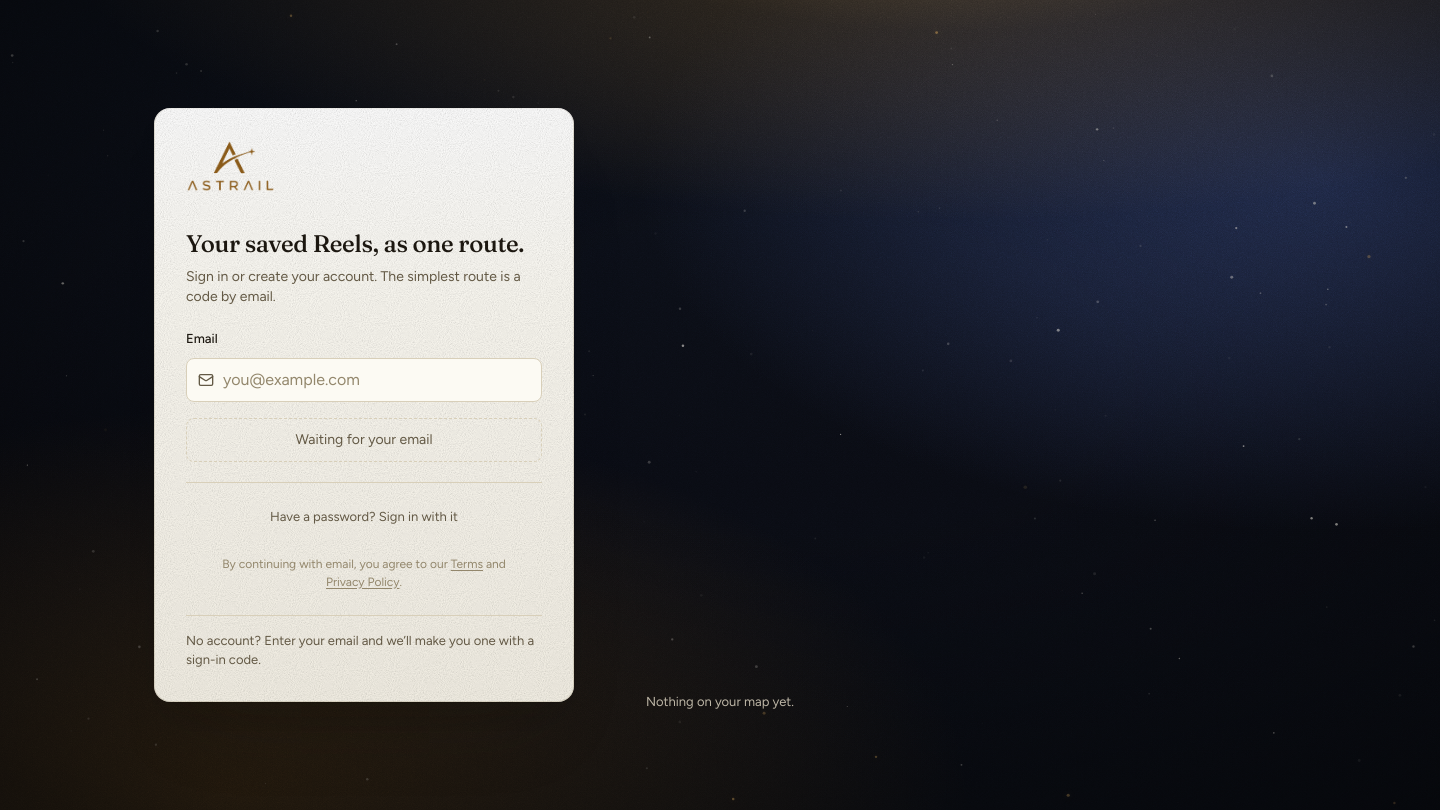
Scenario: password sign-in › uses non-enumerating friendly copy for wrong credentials
Click the button "Have a password? Sign in with it" at (364, 517), box [186,499,542,535]
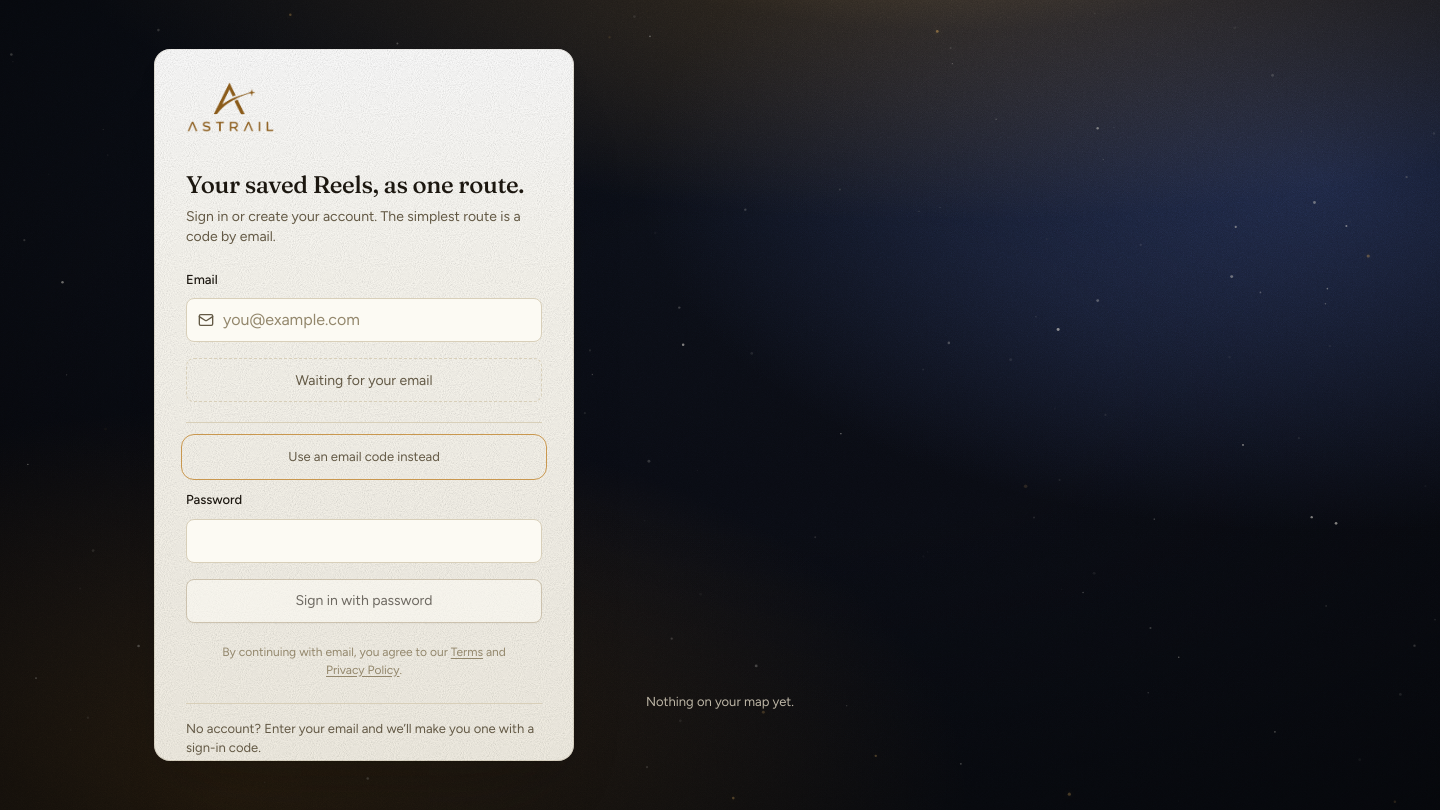
Type "judge@example.com" into the field labelled "Email" at (364, 320), box [186,298,542,342]
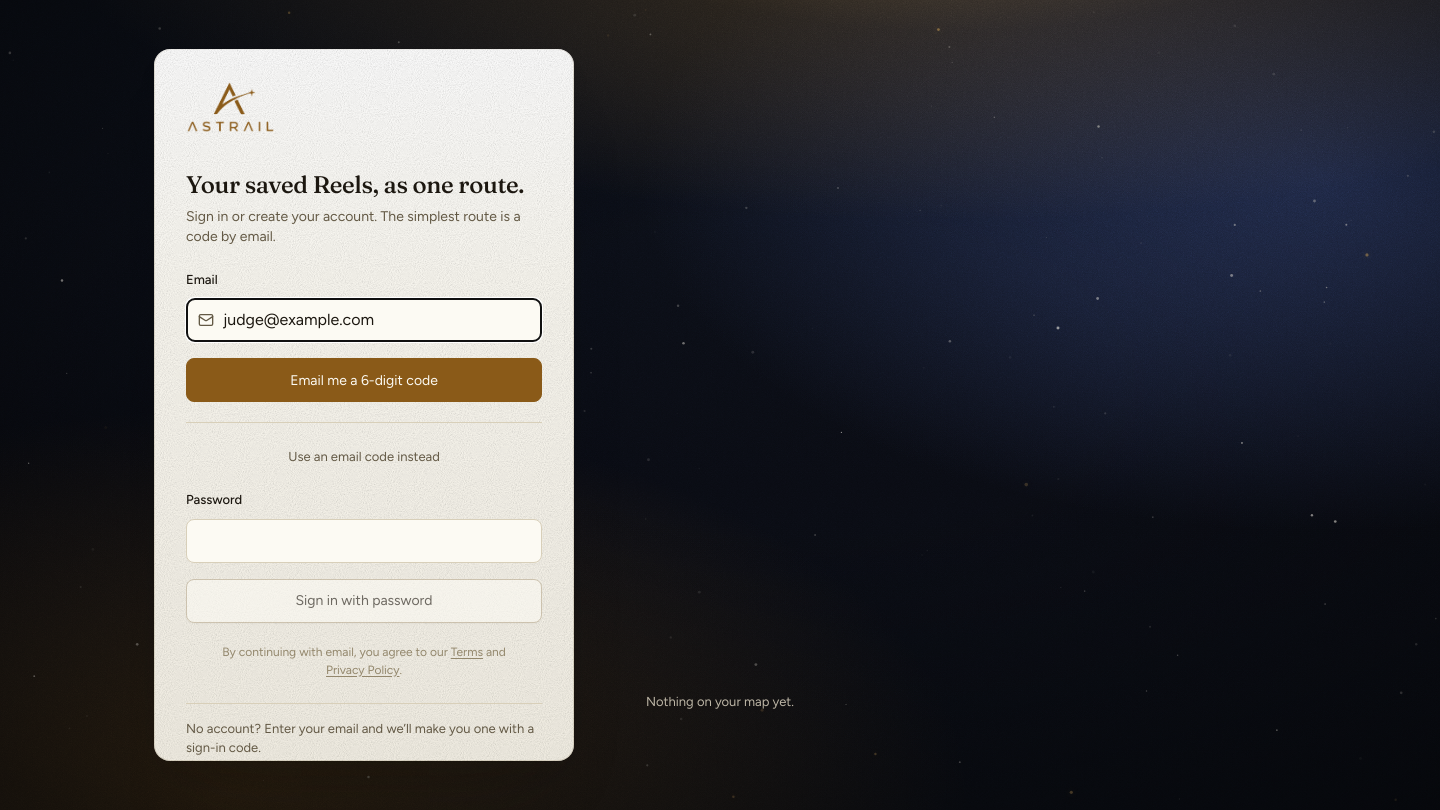
Type "wrong-password" into the password field labelled "Password" at (364, 541), box [186,519,542,563]
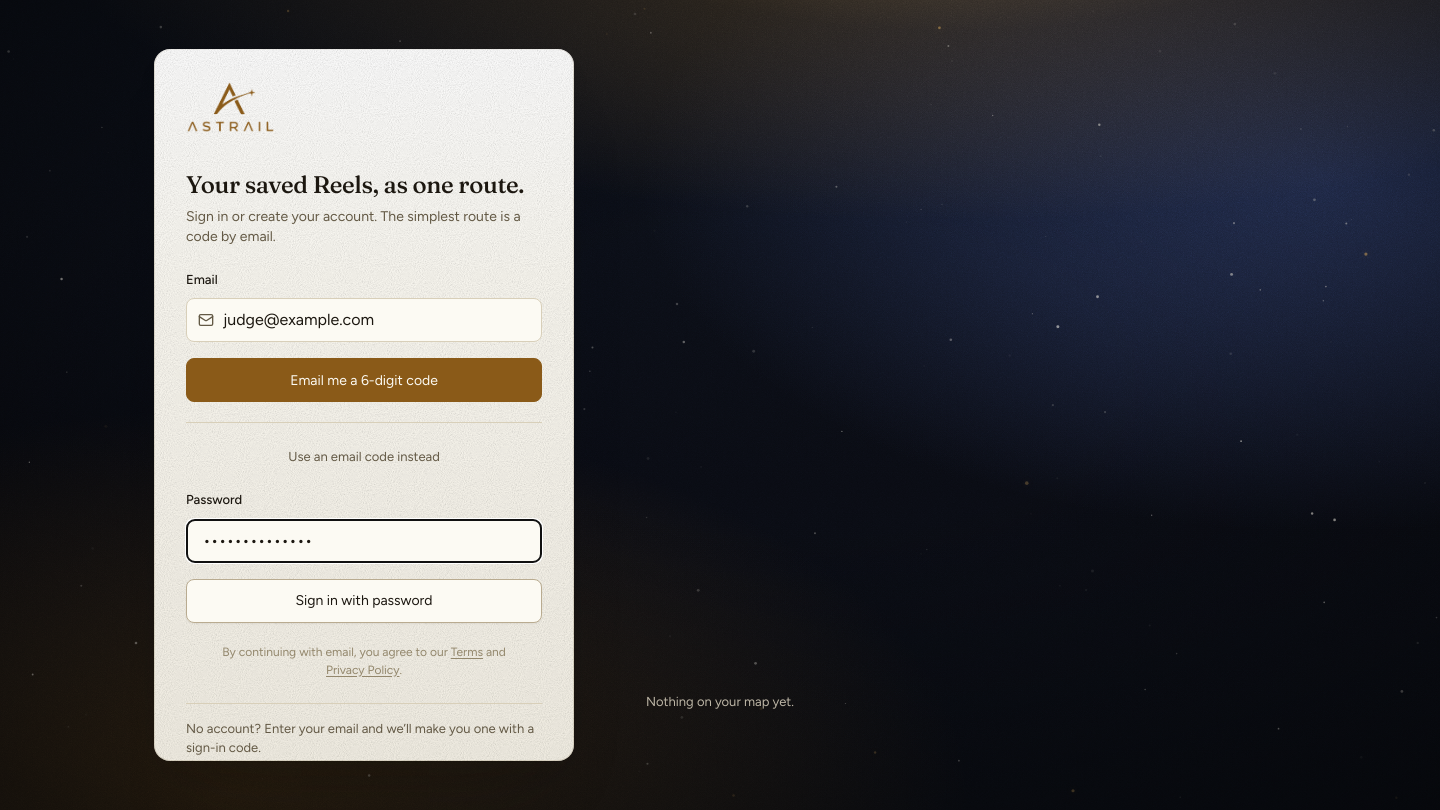
Click the button "Sign in with password" at (364, 601), box [186,579,542,623]
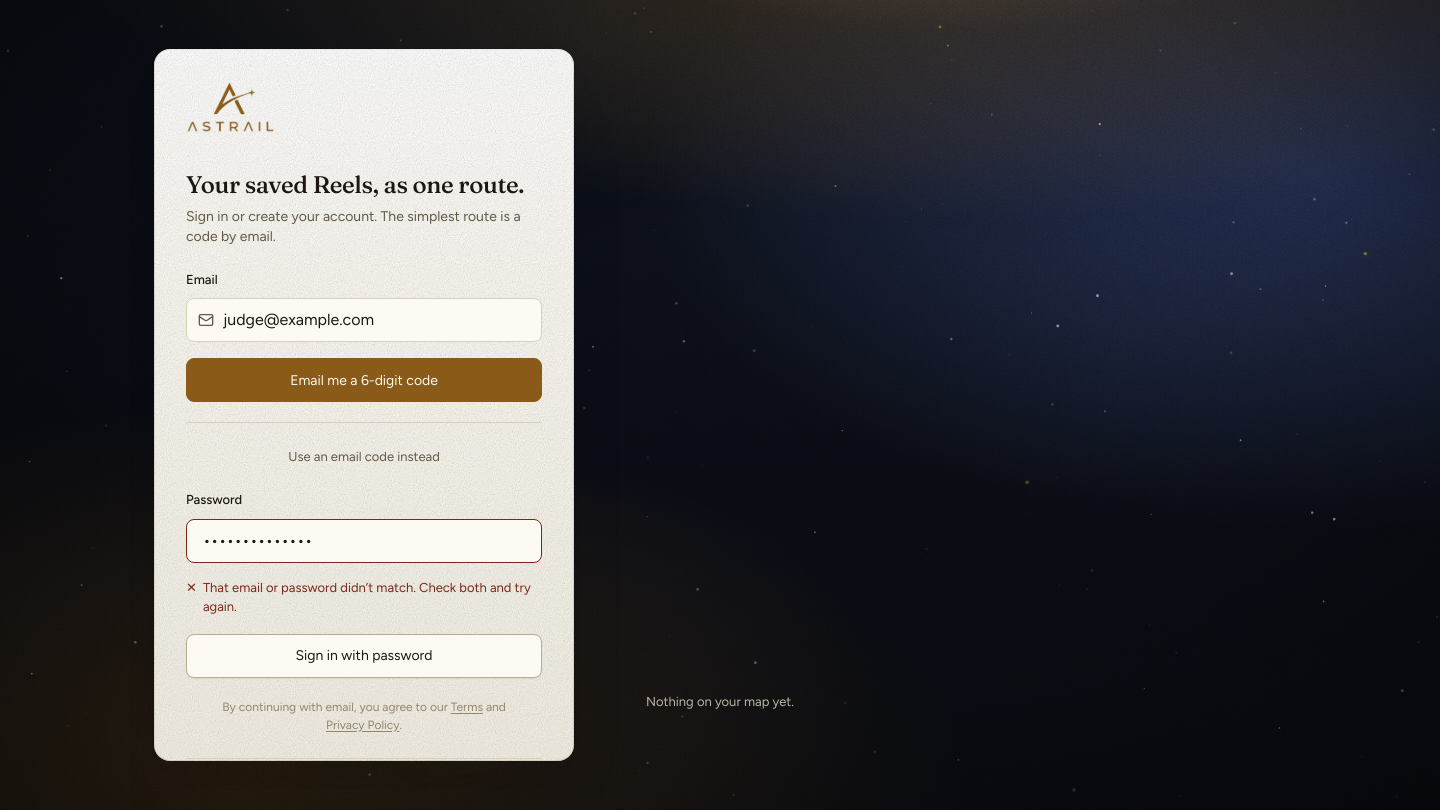
Check: the message shows "That email or password didn’t match. Check both and try again.", box [203,581,531,615]
